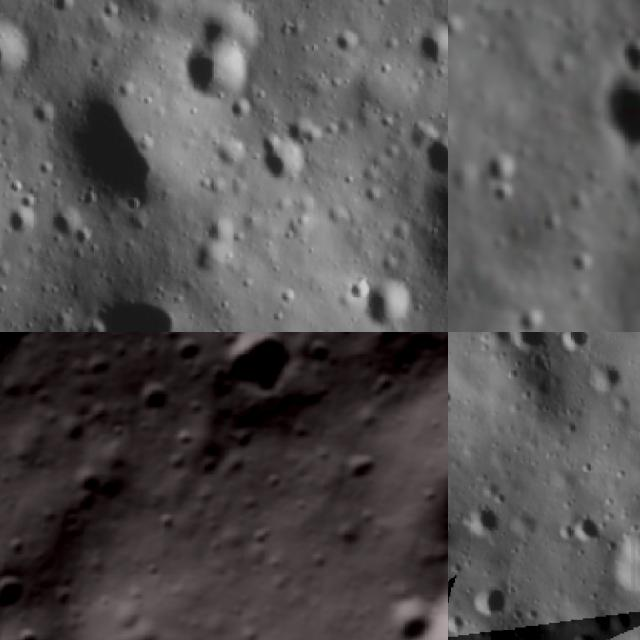crater: (48, 85, 184, 208), (381, 381, 448, 593), (192, 332, 315, 417), (177, 41, 258, 113), (369, 581, 446, 640), (59, 294, 178, 332), (418, 183, 448, 331), (327, 434, 391, 500), (198, 0, 269, 56), (128, 366, 192, 428), (598, 59, 640, 153), (187, 213, 238, 284), (256, 130, 308, 190), (0, 552, 42, 626), (359, 279, 416, 330), (0, 609, 91, 640), (0, 11, 39, 82), (48, 403, 101, 455), (57, 458, 109, 510), (164, 332, 215, 376), (478, 142, 529, 185), (43, 201, 87, 248), (404, 28, 448, 72), (613, 523, 640, 594), (578, 354, 624, 394), (285, 111, 327, 153), (0, 332, 61, 360), (477, 176, 524, 211), (461, 500, 500, 540), (417, 132, 448, 179), (4, 203, 43, 240), (472, 584, 510, 620), (268, 275, 304, 312), (512, 299, 552, 332), (325, 23, 359, 60), (574, 512, 608, 548), (563, 246, 598, 280), (613, 39, 640, 82), (340, 270, 370, 304), (448, 8, 473, 48), (508, 332, 549, 355), (552, 332, 591, 356), (49, 0, 82, 20), (75, 313, 109, 332), (551, 522, 579, 544), (448, 610, 467, 639), (635, 422, 640, 445)
